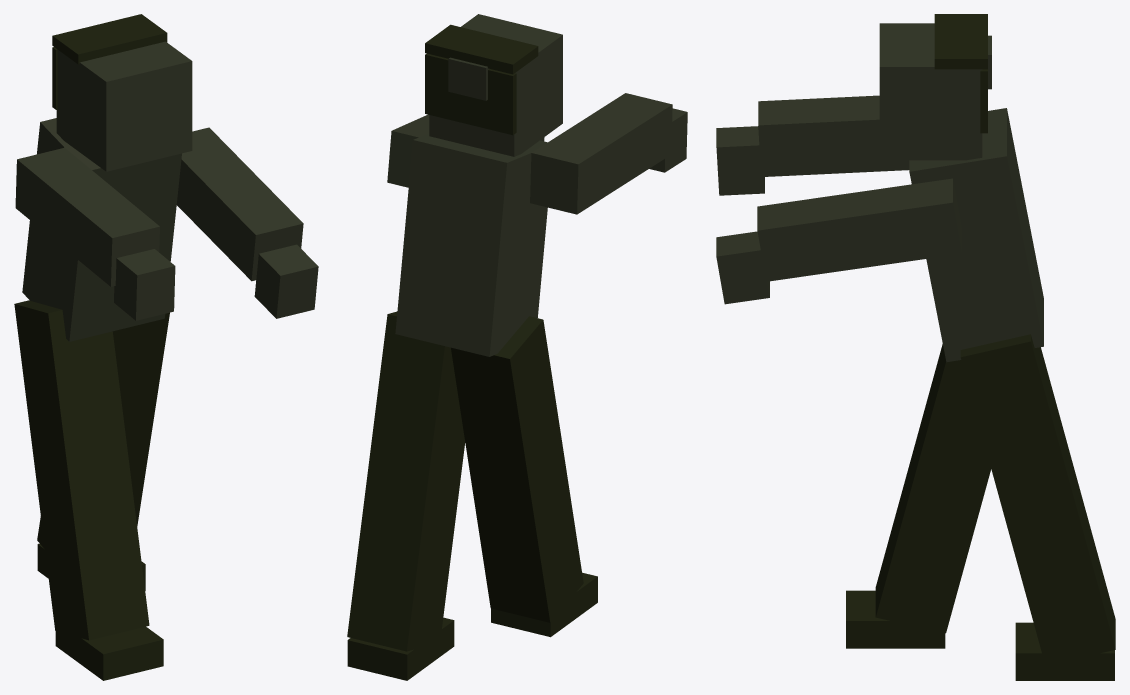
Rendered from SM_zombi_cercano_LOD1.fbx.
3 views of the same model, side by side, from view 1: azimuth 30°, elevation 25°; view 2: azimuth 150°, elevation 25°; view 3: azimuth 270°, elevation 25° (orthographic). The views are drawn at different scales.
Parts seen in each view (by area): view 1: SM_zombi_cercano_LOD1; view 2: SM_zombi_cercano_LOD1; view 3: SM_zombi_cercano_LOD1.
Boxes of the visible parts, bbox=[...] form: SM_zombi_cercano_LOD1: bbox=[14, 14, 318, 680]; SM_zombi_cercano_LOD1: bbox=[347, 14, 687, 680]; SM_zombi_cercano_LOD1: bbox=[716, 14, 1115, 680].
Size of the model in its own units: 0.6 by 1.77 by 1.05.
